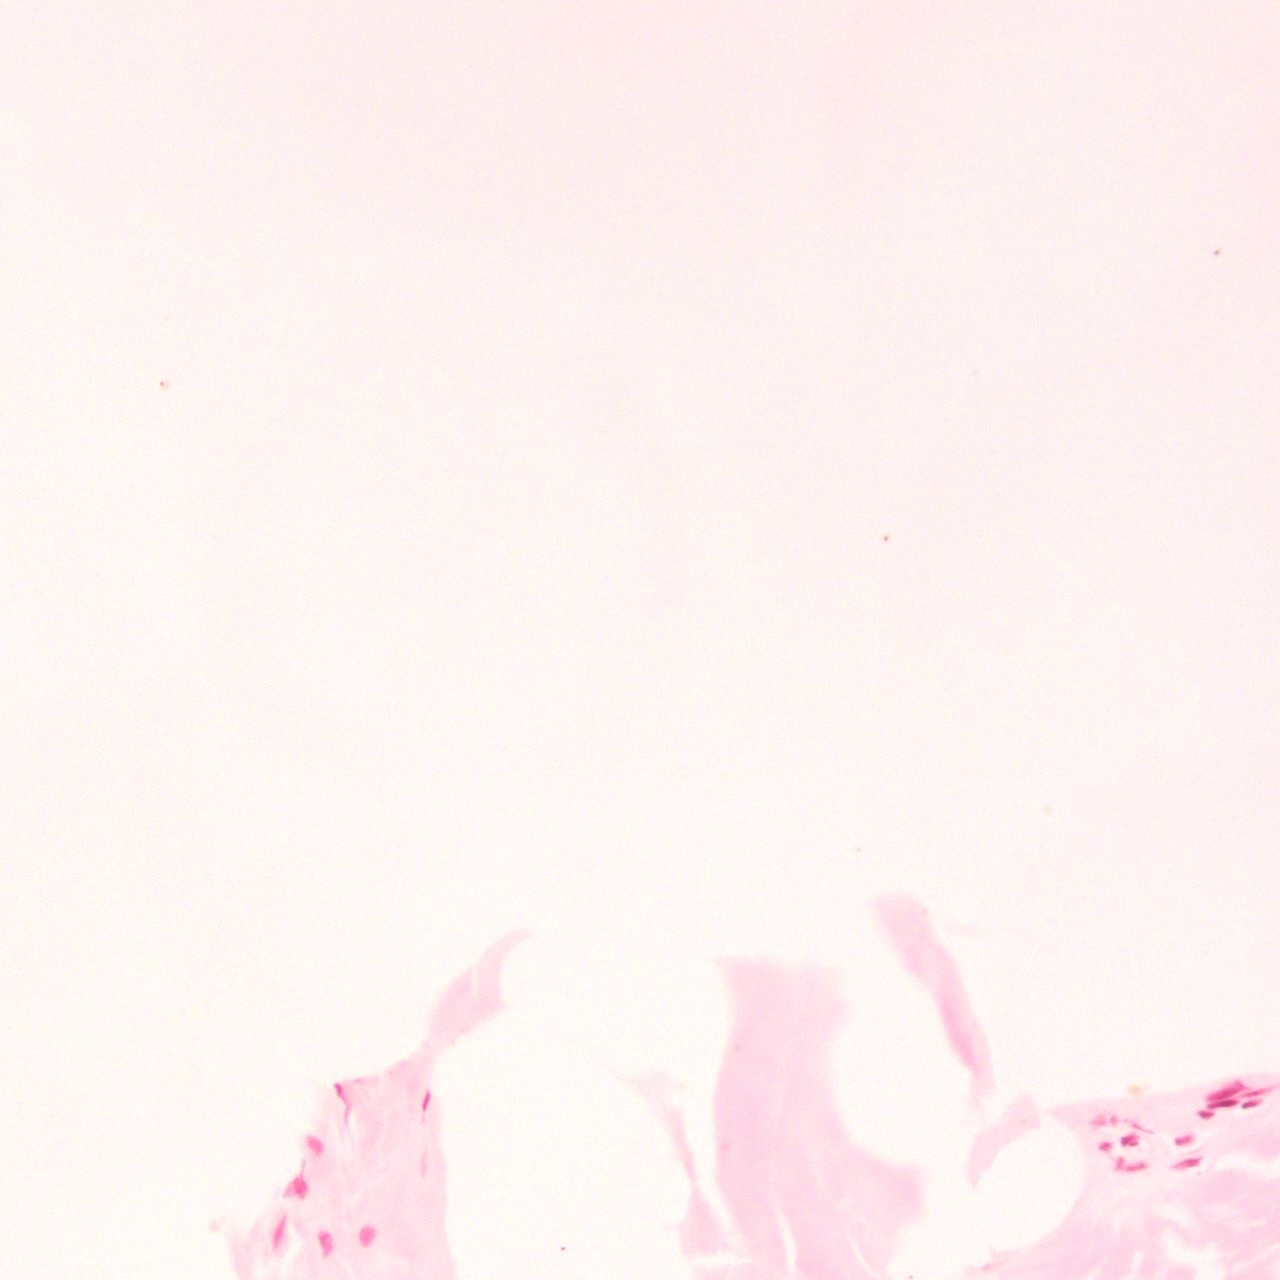dust: (1213, 248, 1220, 255), (883, 535, 889, 541), (559, 1246, 566, 1251), (159, 381, 165, 386)
nucleus-AC: (331, 1078, 358, 1125), (1110, 1149, 1150, 1178), (1204, 1079, 1251, 1103), (1171, 1151, 1205, 1175), (270, 1212, 290, 1251), (314, 1226, 338, 1257), (288, 1173, 312, 1202), (355, 1223, 378, 1248), (1206, 1096, 1239, 1113), (1127, 1120, 1155, 1137), (1171, 1131, 1195, 1150), (1239, 1086, 1269, 1101), (417, 1090, 433, 1112), (1239, 1096, 1262, 1111), (1121, 1134, 1139, 1147), (1091, 1115, 1107, 1127), (1196, 1111, 1215, 1119), (1099, 1142, 1111, 1152), (1108, 1113, 1118, 1125)
